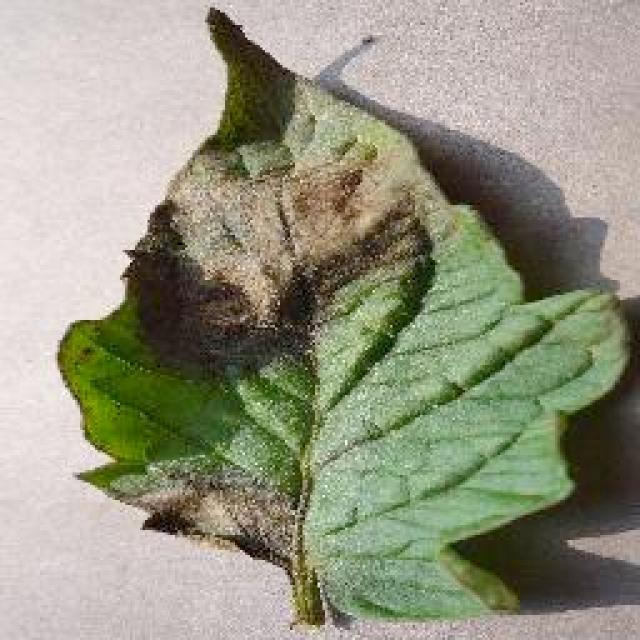Tomato late blight leaf: (54, 0, 625, 618)
